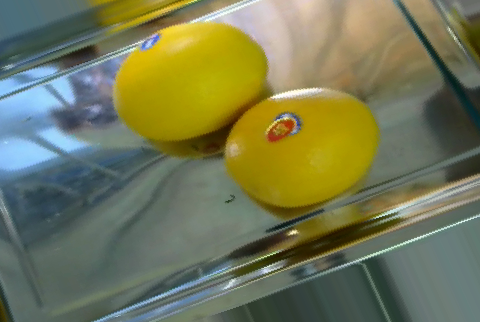Orange: (223, 87, 380, 208), (112, 21, 268, 142)
